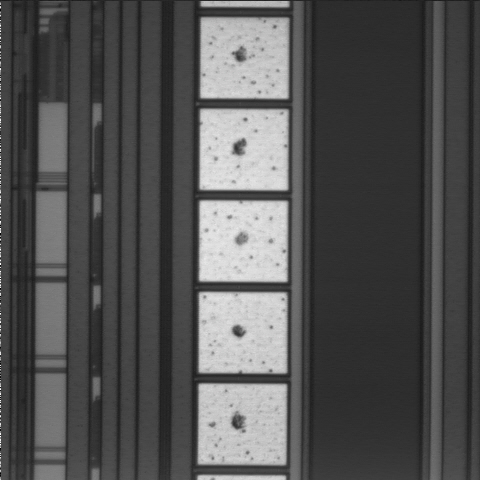pad: (200, 109, 288, 190), (199, 201, 287, 282), (199, 292, 287, 373), (198, 384, 286, 464), (201, 18, 288, 98)
